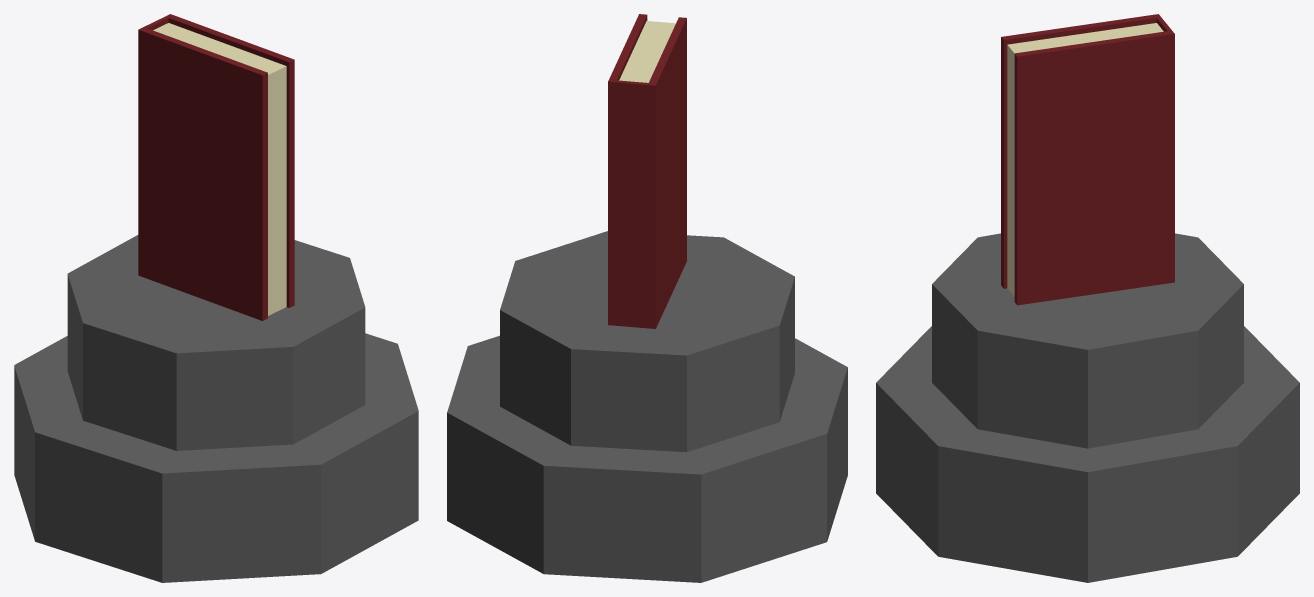
Rendered from StatueBook.fbx.
3 renders of one model, left to right at view 1: azimuth 30°, elevation 25°; view 2: azimuth 150°, elevation 25°; view 3: azimuth 270°, elevation 25°, orthographic. The views are drawn at different scales.
Visible parts, largest first — view 1: Cylinder, Cube; view 2: Cylinder, Cube; view 3: Cylinder, Cube.
Part boxes in pixels (box(x1,y1,x2,y2)): Cylinder: box(14, 235, 418, 582); Cube: box(138, 14, 294, 320); Cylinder: box(447, 231, 847, 582); Cube: box(608, 14, 686, 328); Cylinder: box(876, 233, 1299, 582); Cube: box(1001, 14, 1174, 305).
Size of the model in its own units: 119 by 142 by 119.
